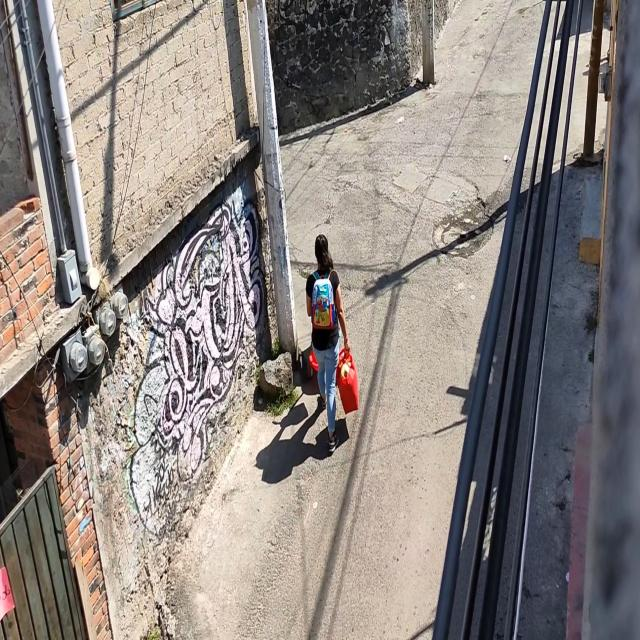adult: (305, 230, 350, 452)
